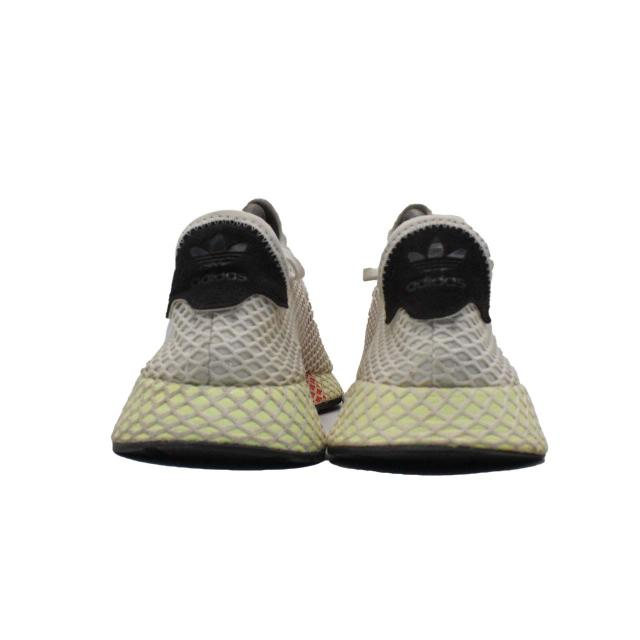heel: (362, 207, 518, 386), (149, 204, 301, 385)
midsole: (338, 382, 546, 470), (123, 378, 324, 460)
